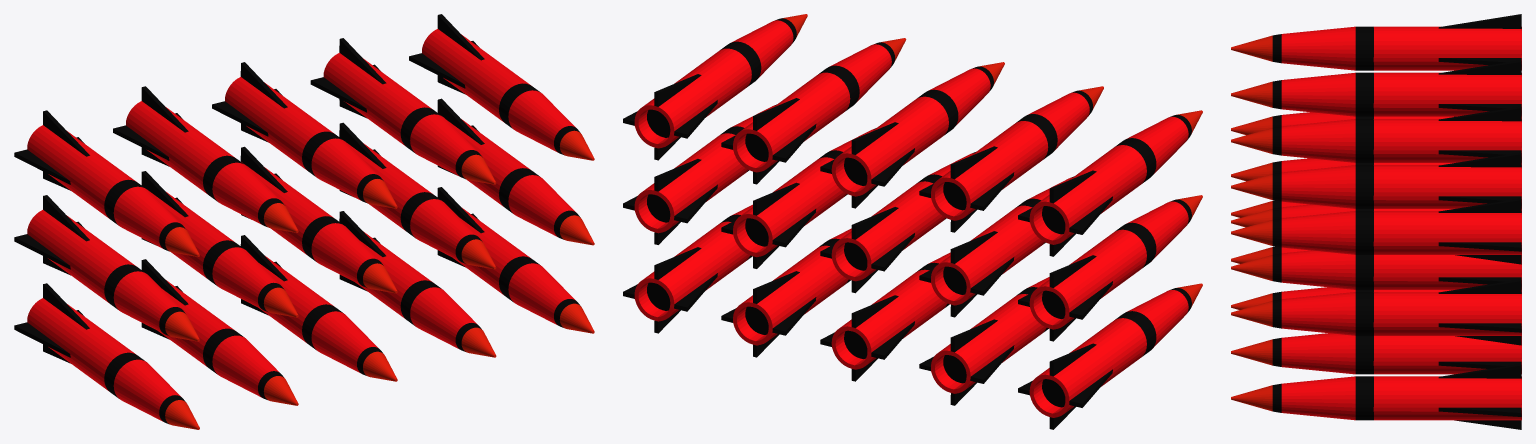
Rendered from rocket turretRockets.fbx.
3 views of the same model, side by side, from view 1: azimuth 30°, elevation 25°; view 2: azimuth 150°, elevation 25°; view 3: azimuth 270°, elevation 25° (orthographic). The views are drawn at different scales.
Parts seen in each view (by area): view 1: Cylinder.001; view 2: Cylinder.001; view 3: Cylinder.001.
Boxes of the visible parts, x1,y1,x2,y2 form: Cylinder.001: [14, 14, 594, 429]; Cylinder.001: [623, 14, 1202, 429]; Cylinder.001: [1231, 14, 1521, 429].
Bounding box in the file's own units: 138 × 68.86 × 78.95.
